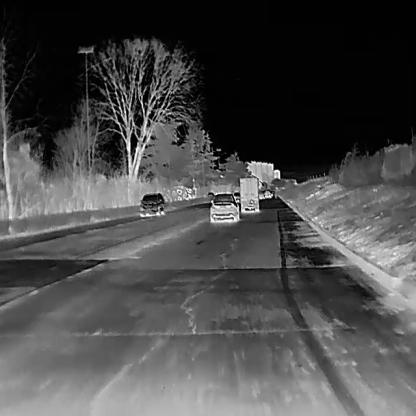car: (208, 192, 239, 222), (137, 191, 164, 216), (232, 190, 241, 202), (257, 188, 265, 198), (263, 188, 271, 198)
truck: (238, 175, 259, 212)
